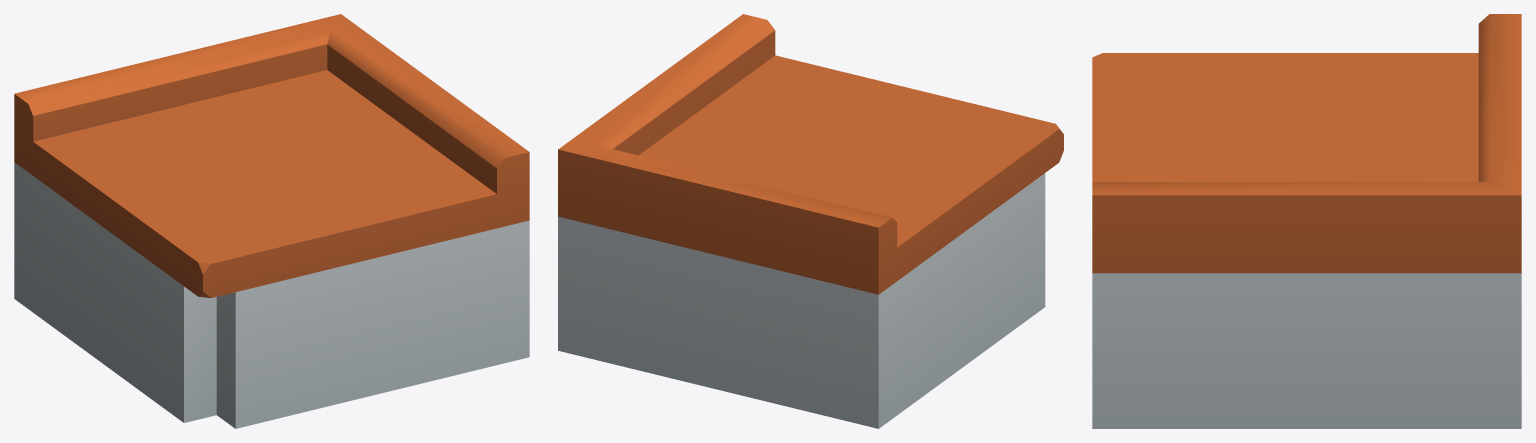
The model's file is kitchencounter_innercorner_backsplash.glb.
3 renders of one model, left to right at view 1: azimuth 30°, elevation 25°; view 2: azimuth 150°, elevation 25°; view 3: azimuth 270°, elevation 25°, orthographic. The views are drawn at different scales.
Visible parts, largest first — view 1: kitchencounter_innercorner_backsplash; view 2: kitchencounter_innercorner_backsplash; view 3: kitchencounter_innercorner_backsplash.
Part boxes in pixels (bbox=[...]): kitchencounter_innercorner_backsplash: bbox=[14, 14, 529, 428]; kitchencounter_innercorner_backsplash: bbox=[558, 14, 1063, 428]; kitchencounter_innercorner_backsplash: bbox=[1092, 14, 1521, 428].
Bounding box in the file's own units: 2 × 1.2 × 2.
1 material, 1 textured.
